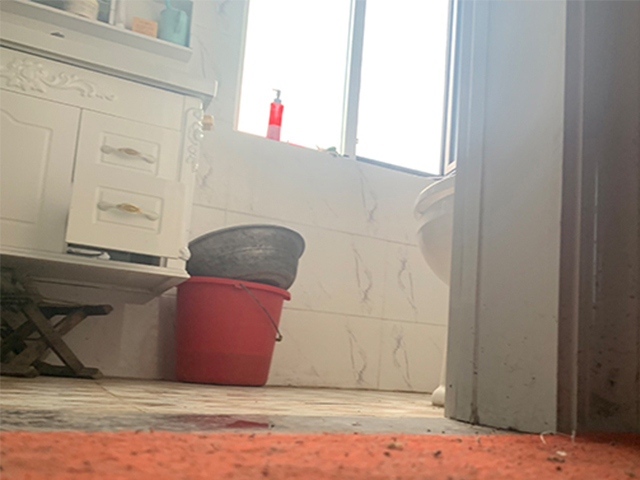carpet: (1, 428, 640, 480)
stool: (1, 292, 114, 380)
